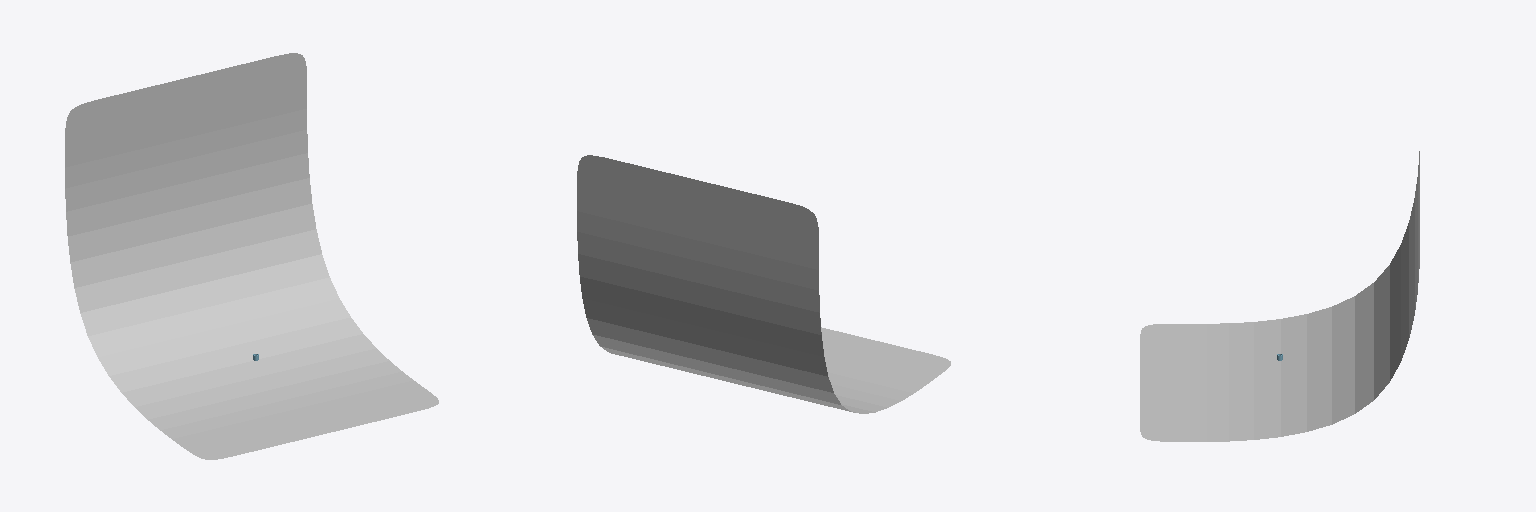
The picture shows the model from 3 angles: view 1: azimuth 30°, elevation 25°; view 2: azimuth 150°, elevation 25°; view 3: azimuth 270°, elevation 25°; orthographic projection.
Visible parts, largest first — view 1: Cube_Cube.001; view 2: Cube_Cube.001; view 3: Cube_Cube.001.
Part boxes in pixels (left/top/right/bottom): Cube_Cube.001: left=65, top=53, right=438, bottom=459; Cube_Cube.001: left=577, top=155, right=950, bottom=413; Cube_Cube.001: left=1140, top=151, right=1419, bottom=441.
Size of the model in its own units: 100 by 100 by 100.